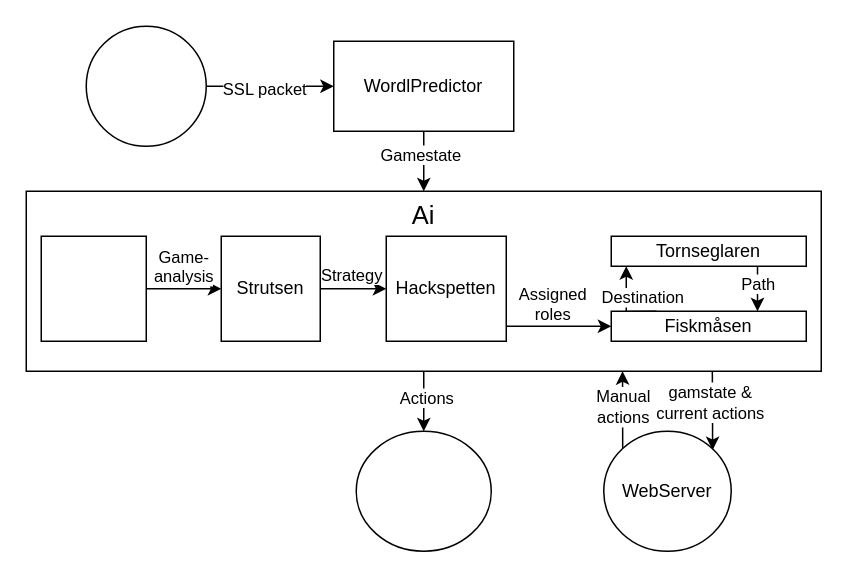
The diagram is 848 pixels wide and 578 high, and some of its shapes have lost their labels. The shapes that lost their labels are listed below. From the top down, each one's box as (x1, y1, x2, y2) in pixels, then its label:
(85, 25, 206, 146): Receiver
(40, 235, 146, 341): Ugglan
(355, 430, 491, 551): Client
